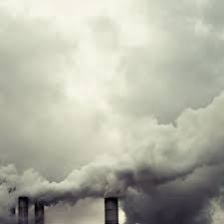smoke: (1, 101, 221, 206)
